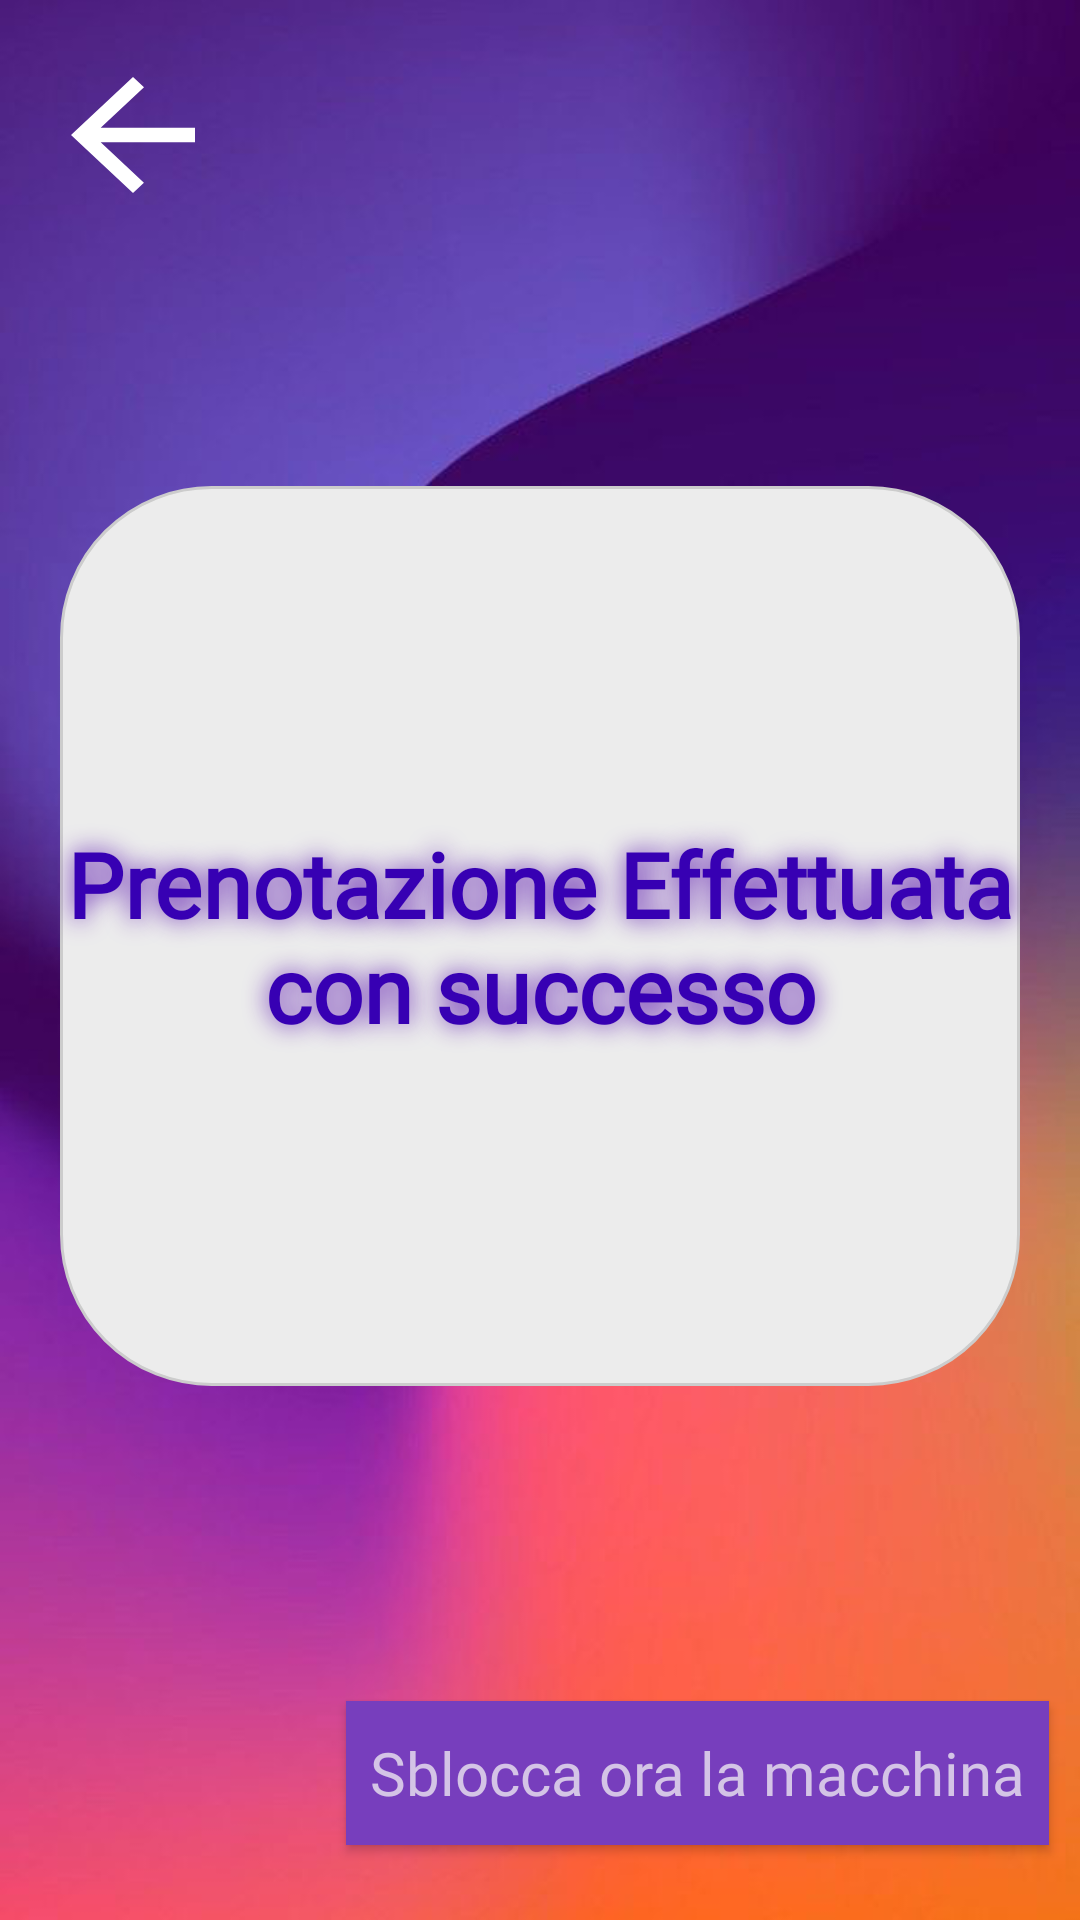

Named icons in this screenshot (1080 x 1920) and their centers, (x,y):
backarrow: (118,126)
